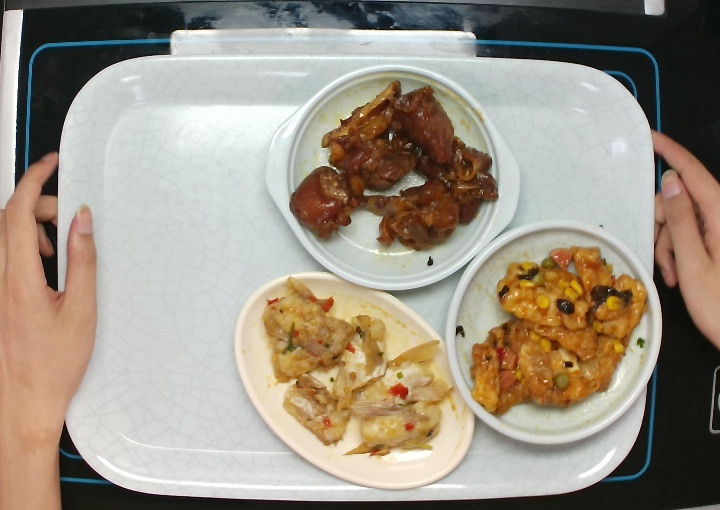JYsf-Shuang_Er_Pan: (265, 65, 520, 295)
JYsf-Tuo_Yuan_Wan: (234, 271, 481, 491)
JYsf-Xiao_Yuan_Pan: (443, 218, 663, 444)
